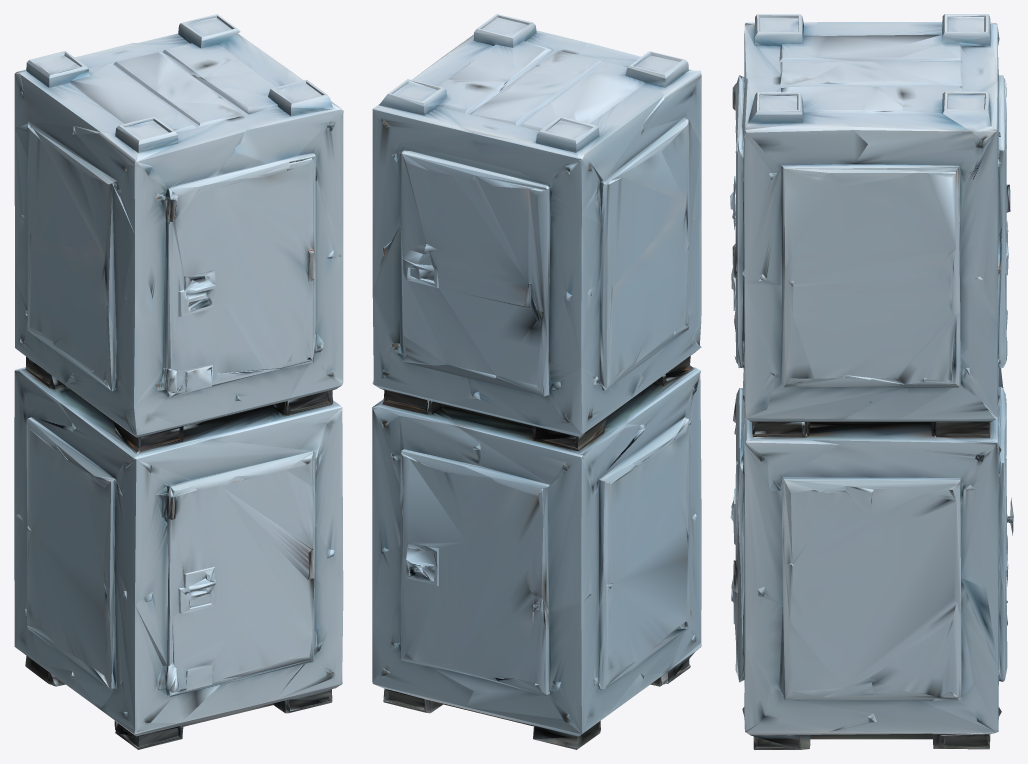
File: cover_full_snow_v1.glb
3 renders of one model, left to right at view 1: azimuth 30°, elevation 25°; view 2: azimuth 150°, elevation 25°; view 3: azimuth 270°, elevation 25°, orthographic. The views are drawn at different scales.
Size of the model in its own units: 0.7205 by 1.85 by 0.7451.
1 material, 1 textured.
